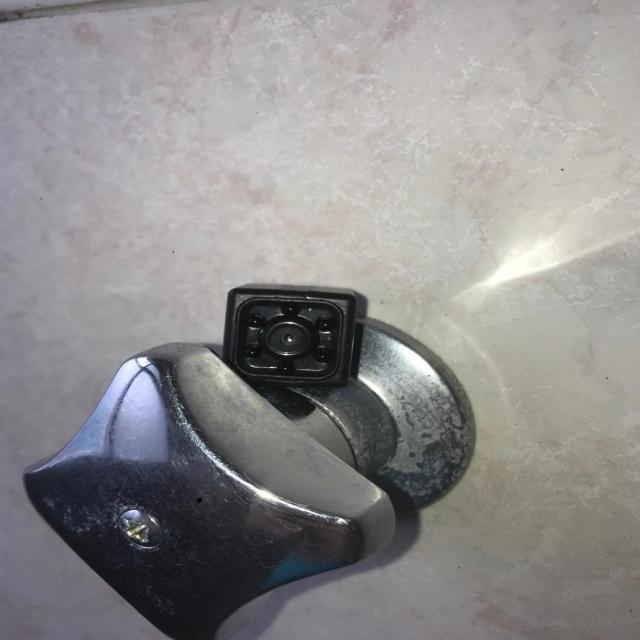hidden camera: (264, 321, 313, 358)
